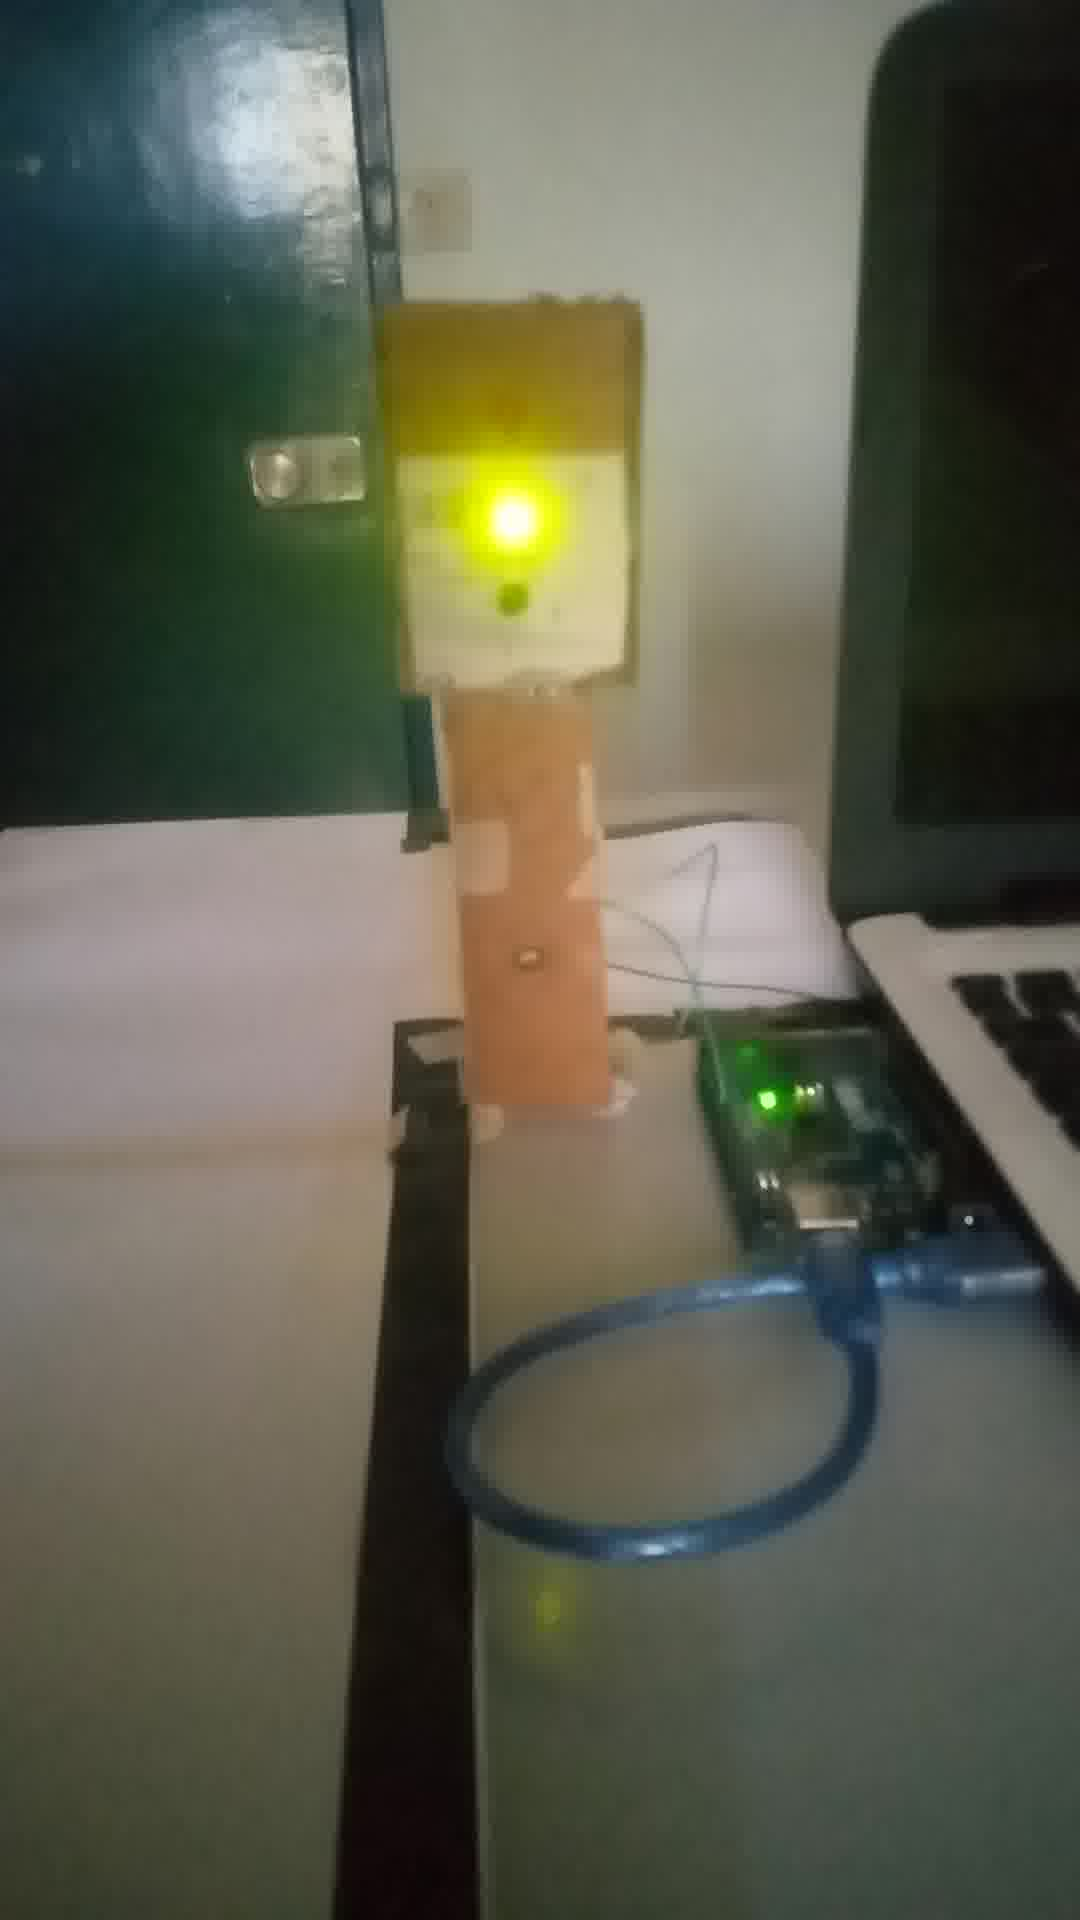yellow: (386, 303, 641, 703)
